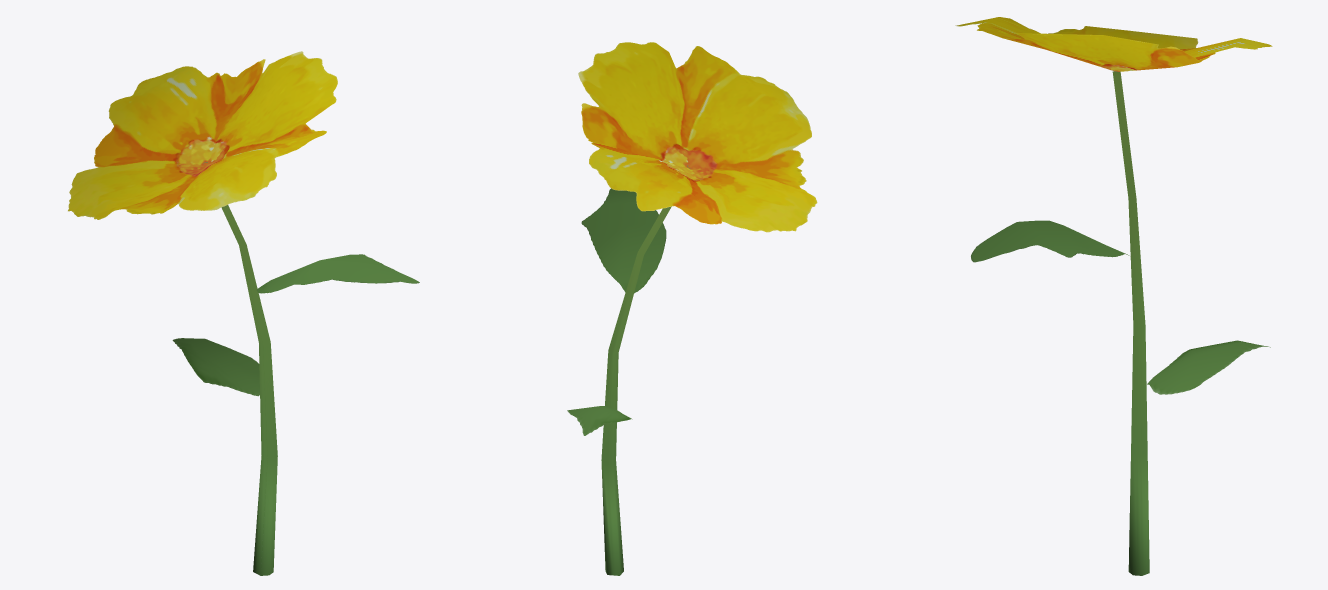
The model's file is FlowerG.fbx.
The picture shows the model from 3 angles, left to right: view 1: azimuth 30°, elevation 25°; view 2: azimuth 150°, elevation 25°; view 3: azimuth 270°, elevation 25°; orthographic projection. The views are drawn at different scales.
Parts seen in each view (by area): view 1: FlowerGLOD0; view 2: FlowerGLOD0; view 3: FlowerGLOD0.
Boxes of the visible parts, x1,y1,x2,y2 form: FlowerGLOD0: (68, 51, 419, 575); FlowerGLOD0: (567, 42, 817, 575); FlowerGLOD0: (955, 17, 1272, 575).
Size of what is drawn, in the model's own units: 29.61 by 42.27 by 26.16.
